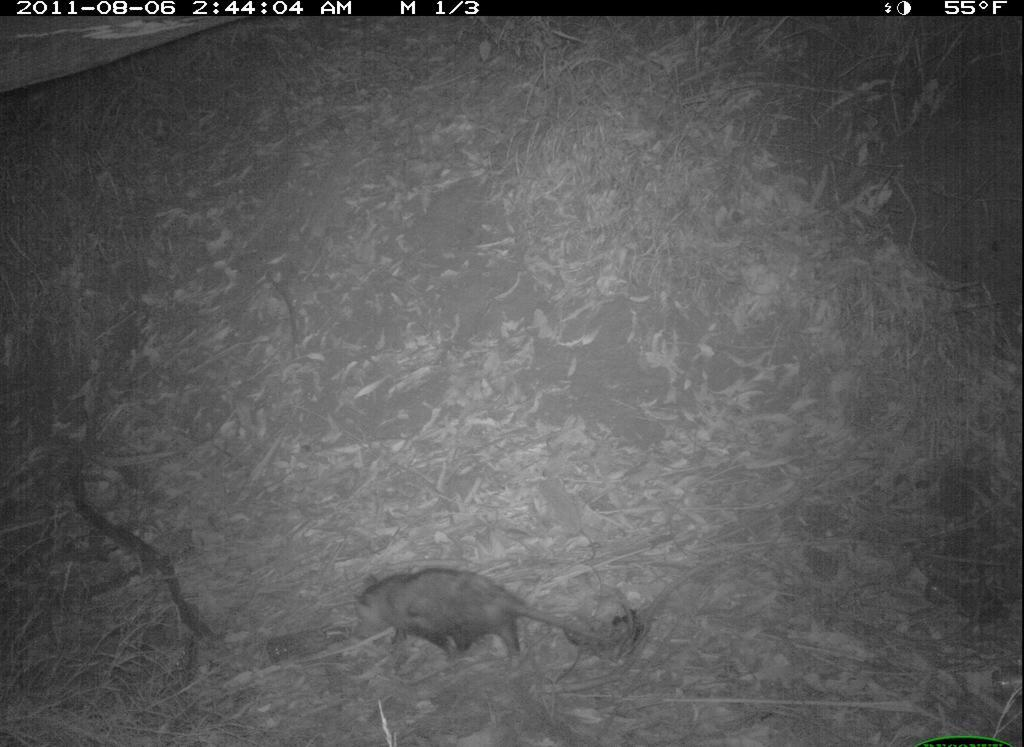opossum: (345, 556, 661, 683)
